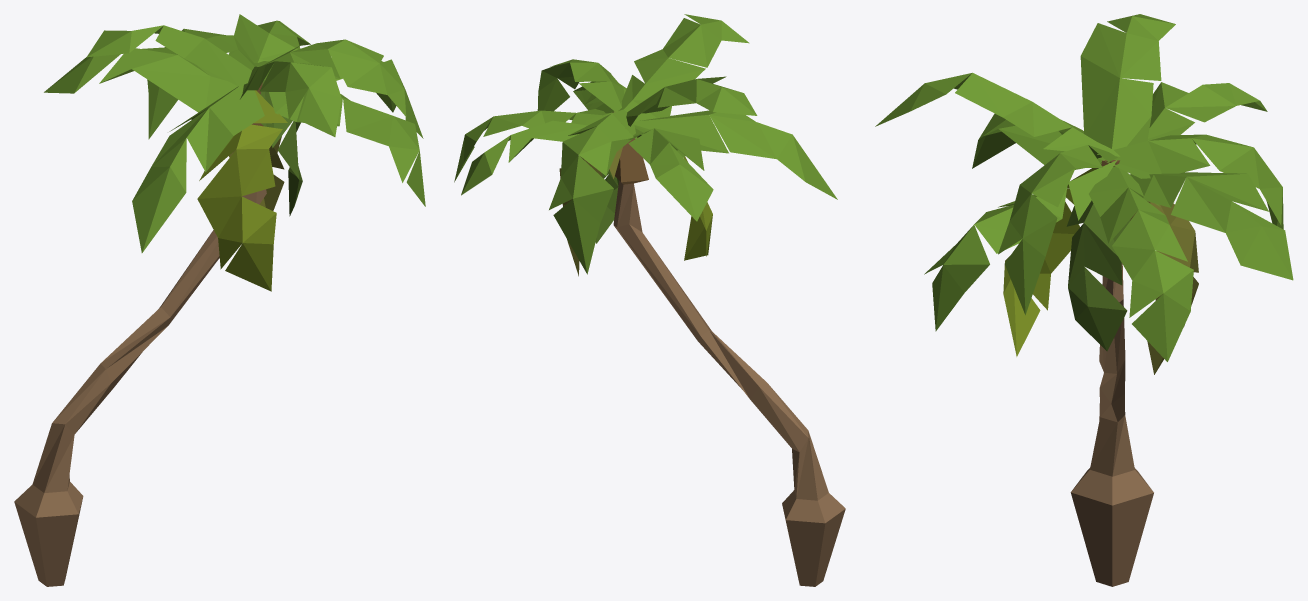
The model's file is Env_Tree03.fbx.
The picture shows the model from 3 angles, left to right: view 1: azimuth 30°, elevation 25°; view 2: azimuth 150°, elevation 25°; view 3: azimuth 270°, elevation 25°; orthographic projection. The views are drawn at different scales.
Parts seen in each view (by area): view 1: Env_Tree03; view 2: Env_Tree03; view 3: Env_Tree03.
Part boxes in pixels (box(x1,y1,x2,y2)): Env_Tree03: box(14, 14, 425, 586); Env_Tree03: box(454, 14, 845, 586); Env_Tree03: box(875, 14, 1293, 586).
Bounding box in the file's own units: 321 × 410 × 254.
1 material, 1 textured.
